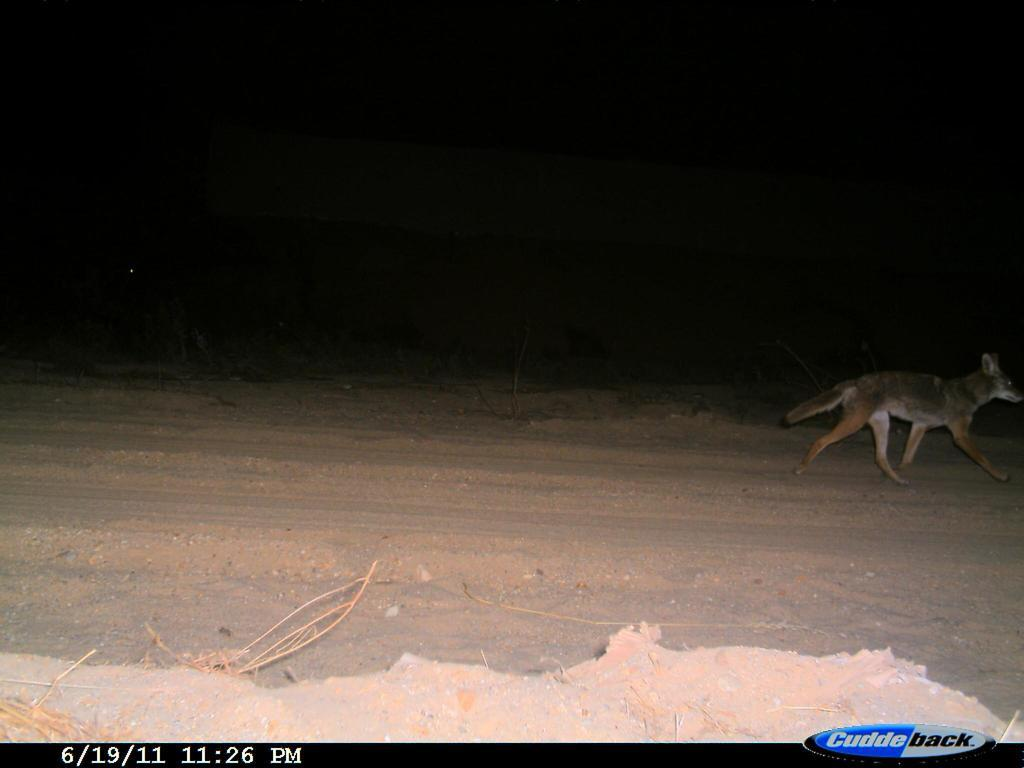coyote: (767, 342, 1023, 489)
